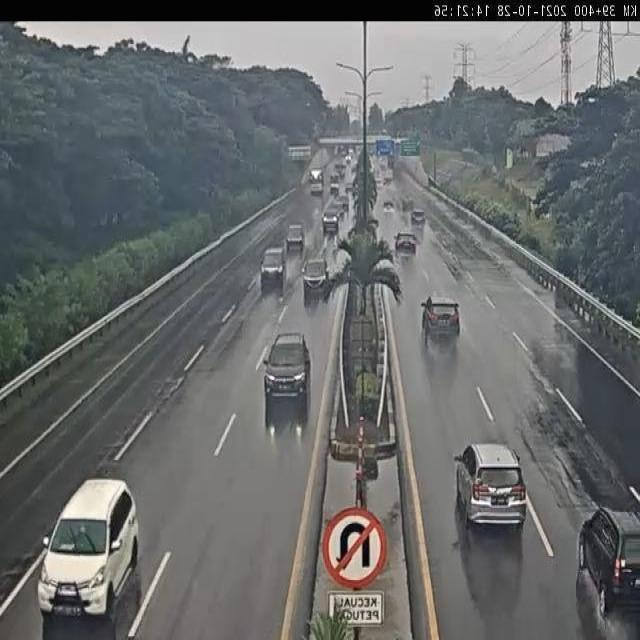Bus: (308, 168, 324, 195)
Car: (35, 476, 141, 620), (577, 501, 640, 619), (452, 441, 529, 529), (261, 332, 312, 408), (419, 296, 462, 344), (300, 253, 330, 300), (259, 248, 287, 288), (394, 232, 418, 258), (286, 223, 306, 254), (321, 210, 338, 232), (332, 200, 345, 218), (412, 210, 426, 224), (340, 195, 350, 212), (382, 203, 394, 215), (346, 181, 354, 194)
